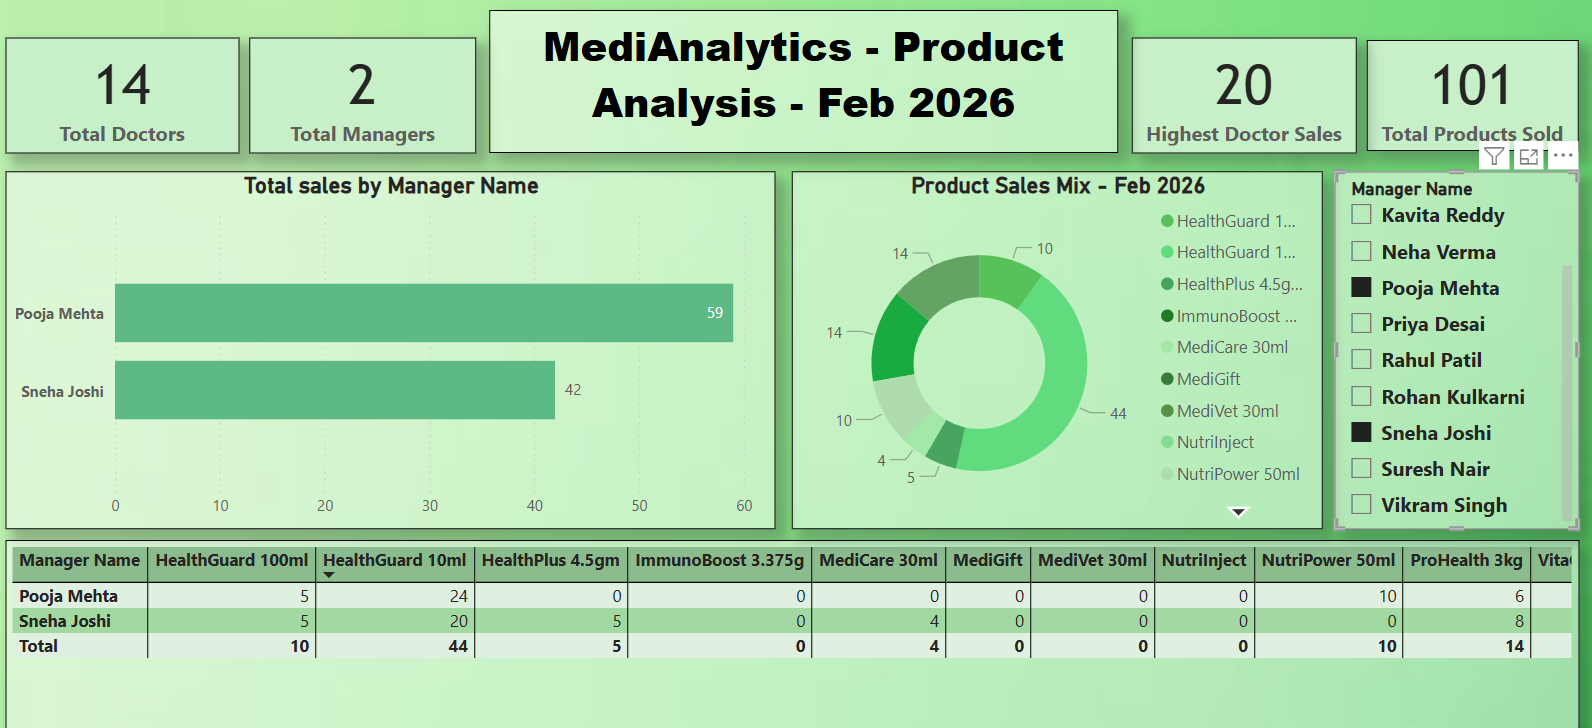

Layout of this report page (visuals, bound fields, positions):
{"tool":"powerbi","page":{"name":"Page 1","canvas":[1280,720],"ordinal":0},"visuals":[{"type":"card","fields":{"Values":["Sum(Product_Analysis_Feb2026.Total)"]},"box":[1099.1,36.2,170.1,89.3],"z":0},{"type":"card","fields":{"Values":["Max(Product_Analysis_Feb2026.Total)"]},"box":[910.9,33.8,179.8,92.9],"z":1000},{"type":"card","fields":{"Values":["Count(Product_Analysis_Feb2026.Doctor_ID)"]},"box":[9.7,33.8,187,92.9],"z":2000},{"type":"card","fields":{"Values":["Count(Product_Analysis_Feb2026.Rep_Name)"]},"box":[205.1,33.8,182.2,92.9],"z":3000},{"type":"clusteredBarChart","fields":{"Y":["Sum(Product_Analysis_Feb2026.Total)"],"Category":["Product_Analysis_Feb2026.Rep_Name"]},"box":[9.7,141.2,616.5,287.1],"z":4000},{"type":"pivotTable","fields":{"Rows":["Product_Analysis_Feb2026.Rep_Name"],"Values":["Sum(Product_Analysis_Feb2026.HealthGuard 100ml)","Sum(Product_Analysis_Feb2026.HealthGuard 10ml)","Sum(Product_Analysis_Feb2026.HealthPlus 4.5gm)","Sum(Product_Analysis_Feb2026.ImmunoBoost 3.375g)","Sum(Product_Analysis_Feb2026.MediCare 30ml)","Sum(Product_Analysis_Feb2026.MediGift)","Sum(Product_Analysis_Feb2026.MediVet 30ml)","Sum(Product_Analysis_Feb2026.NutriInject)","Sum(Product_Analysis_Feb2026.NutriPower 50ml)","Sum(Product_Analysis_Feb2026.ProHealth 3kg)","Sum(Product_Analysis_Feb2026.VitaCalci Combi)","Sum(Product_Analysis_Feb2026.VitaCore 1gm)"]},"box":[9.7,435.5,1259.5,276.3],"z":5000},{"type":"donutChart","title":"Product Sales Mix - Feb 2026","fields":{"Y":["Sum(Product_Analysis_Feb2026.HealthGuard 100ml)","Sum(Product_Analysis_Feb2026.HealthGuard 10ml)","Sum(Product_Analysis_Feb2026.HealthPlus 4.5gm)","Sum(Product_Analysis_Feb2026.ImmunoBoost 3.375g)","Sum(Product_Analysis_Feb2026.MediCare 30ml)","Sum(Product_Analysis_Feb2026.MediGift)","Sum(Product_Analysis_Feb2026.MediVet 30ml)","Sum(Product_Analysis_Feb2026.NutriInject)","Sum(Product_Analysis_Feb2026.NutriPower 50ml)","Sum(Product_Analysis_Feb2026.ProHealth 3kg)","Sum(Product_Analysis_Feb2026.VitaCalci Combi)","Sum(Product_Analysis_Feb2026.VitaCore 1gm)"]},"box":[639.4,141.2,424.7,287.1],"z":6000},{"type":"slicer","fields":{"Values":["Product_Analysis_Feb2026.Rep_Name"]},"box":[1072.5,141.2,196.6,287.1],"z":7000},{"type":"textbox","box":[396.9,12.1,503.1,114.6],"z":8000}]}

Visuals, with their boxes on the page's 1280x720 design canvas (x1, y1, x2, y2). These are canvas units, not pixel positions in the 1592x728 screenshot, which may show the page scaled, cropped or inside an application window:
card - Sum(Product_Analysis_Feb2026.Total): detection(1099, 36, 1269, 126)
card - Max(Product_Analysis_Feb2026.Total): detection(911, 34, 1091, 127)
card - Count(Product_Analysis_Feb2026.Doctor_ID): detection(10, 34, 197, 127)
card - Count(Product_Analysis_Feb2026.Rep_Name): detection(205, 34, 387, 127)
clusteredBarChart - Sum(Product_Analysis_Feb2026.Total) x Product_Analysis_Feb2026.Rep_Name: detection(10, 141, 626, 428)
pivotTable - Product_Analysis_Feb2026.Rep_Name x Sum(Product_Analysis_Feb2026.HealthGuard 100ml): detection(10, 436, 1269, 712)
"Product Sales Mix - Feb 2026" donutChart: detection(639, 141, 1064, 428)
slicer - Product_Analysis_Feb2026.Rep_Name: detection(1072, 141, 1269, 428)
textbox: detection(397, 12, 900, 127)
